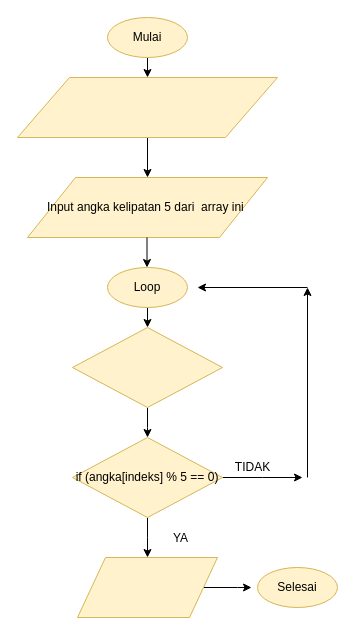
This 355x635 diagram has some shape labels left out. The box of each missing label's shape, as (x1, y1, x2, y2) in pixels:
int indeks=0; indeks < angka; indeks++: (72, 326, 222, 408)
int[] angka = (82,12,41,38,19,26,9,48,20,55,8,32,3): (16, 76, 278, 138)
Print angka[indeks]: (76, 556, 218, 618)
